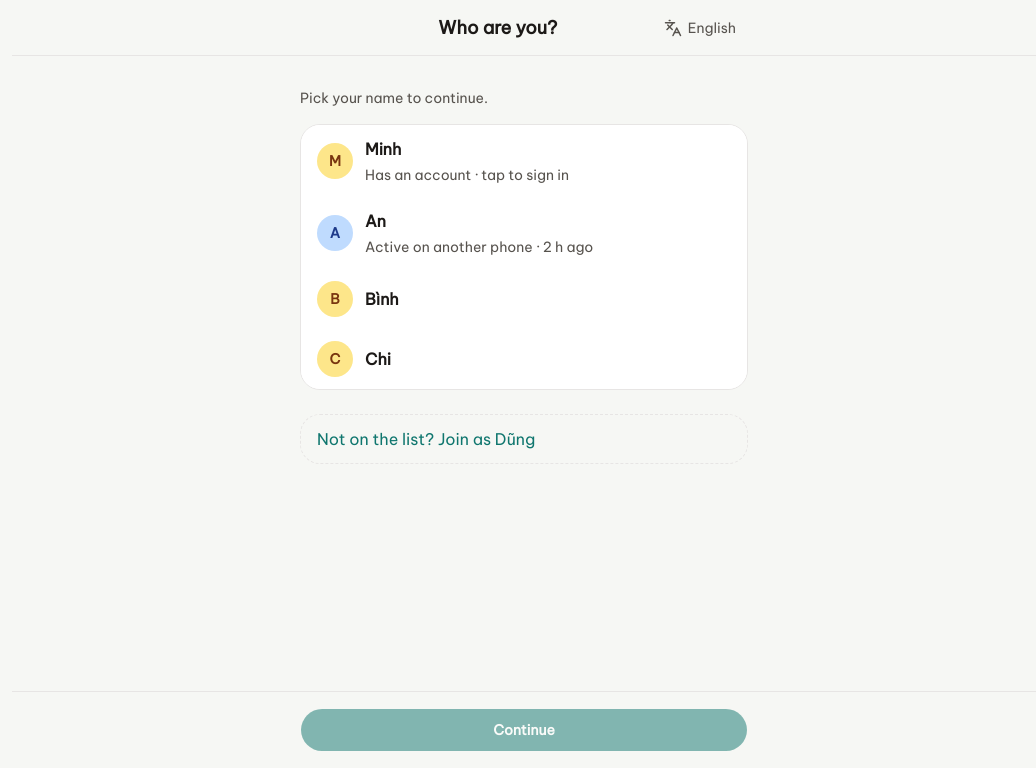
Test case: WhoAreYou: joining without approval › a failed join shows the error in the bottom bar
The width and height of the screenshot is (1036, 768).
Click the button "Not on the list? Join as Dũng" at [524, 439], box [300,414,748,464]
(page scrolled)
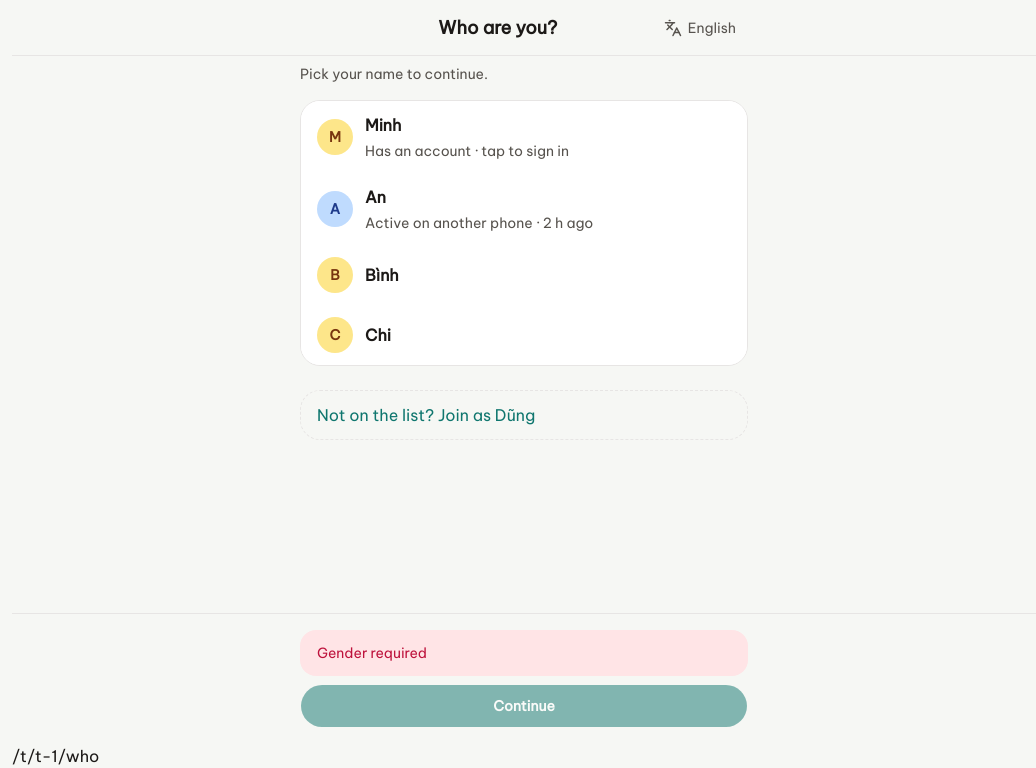
Check: the text with test id "location" reads "/t/t-1/who", box [12,746,99,766]
Check: the message reads "Gender required", box [317,644,427,662]
